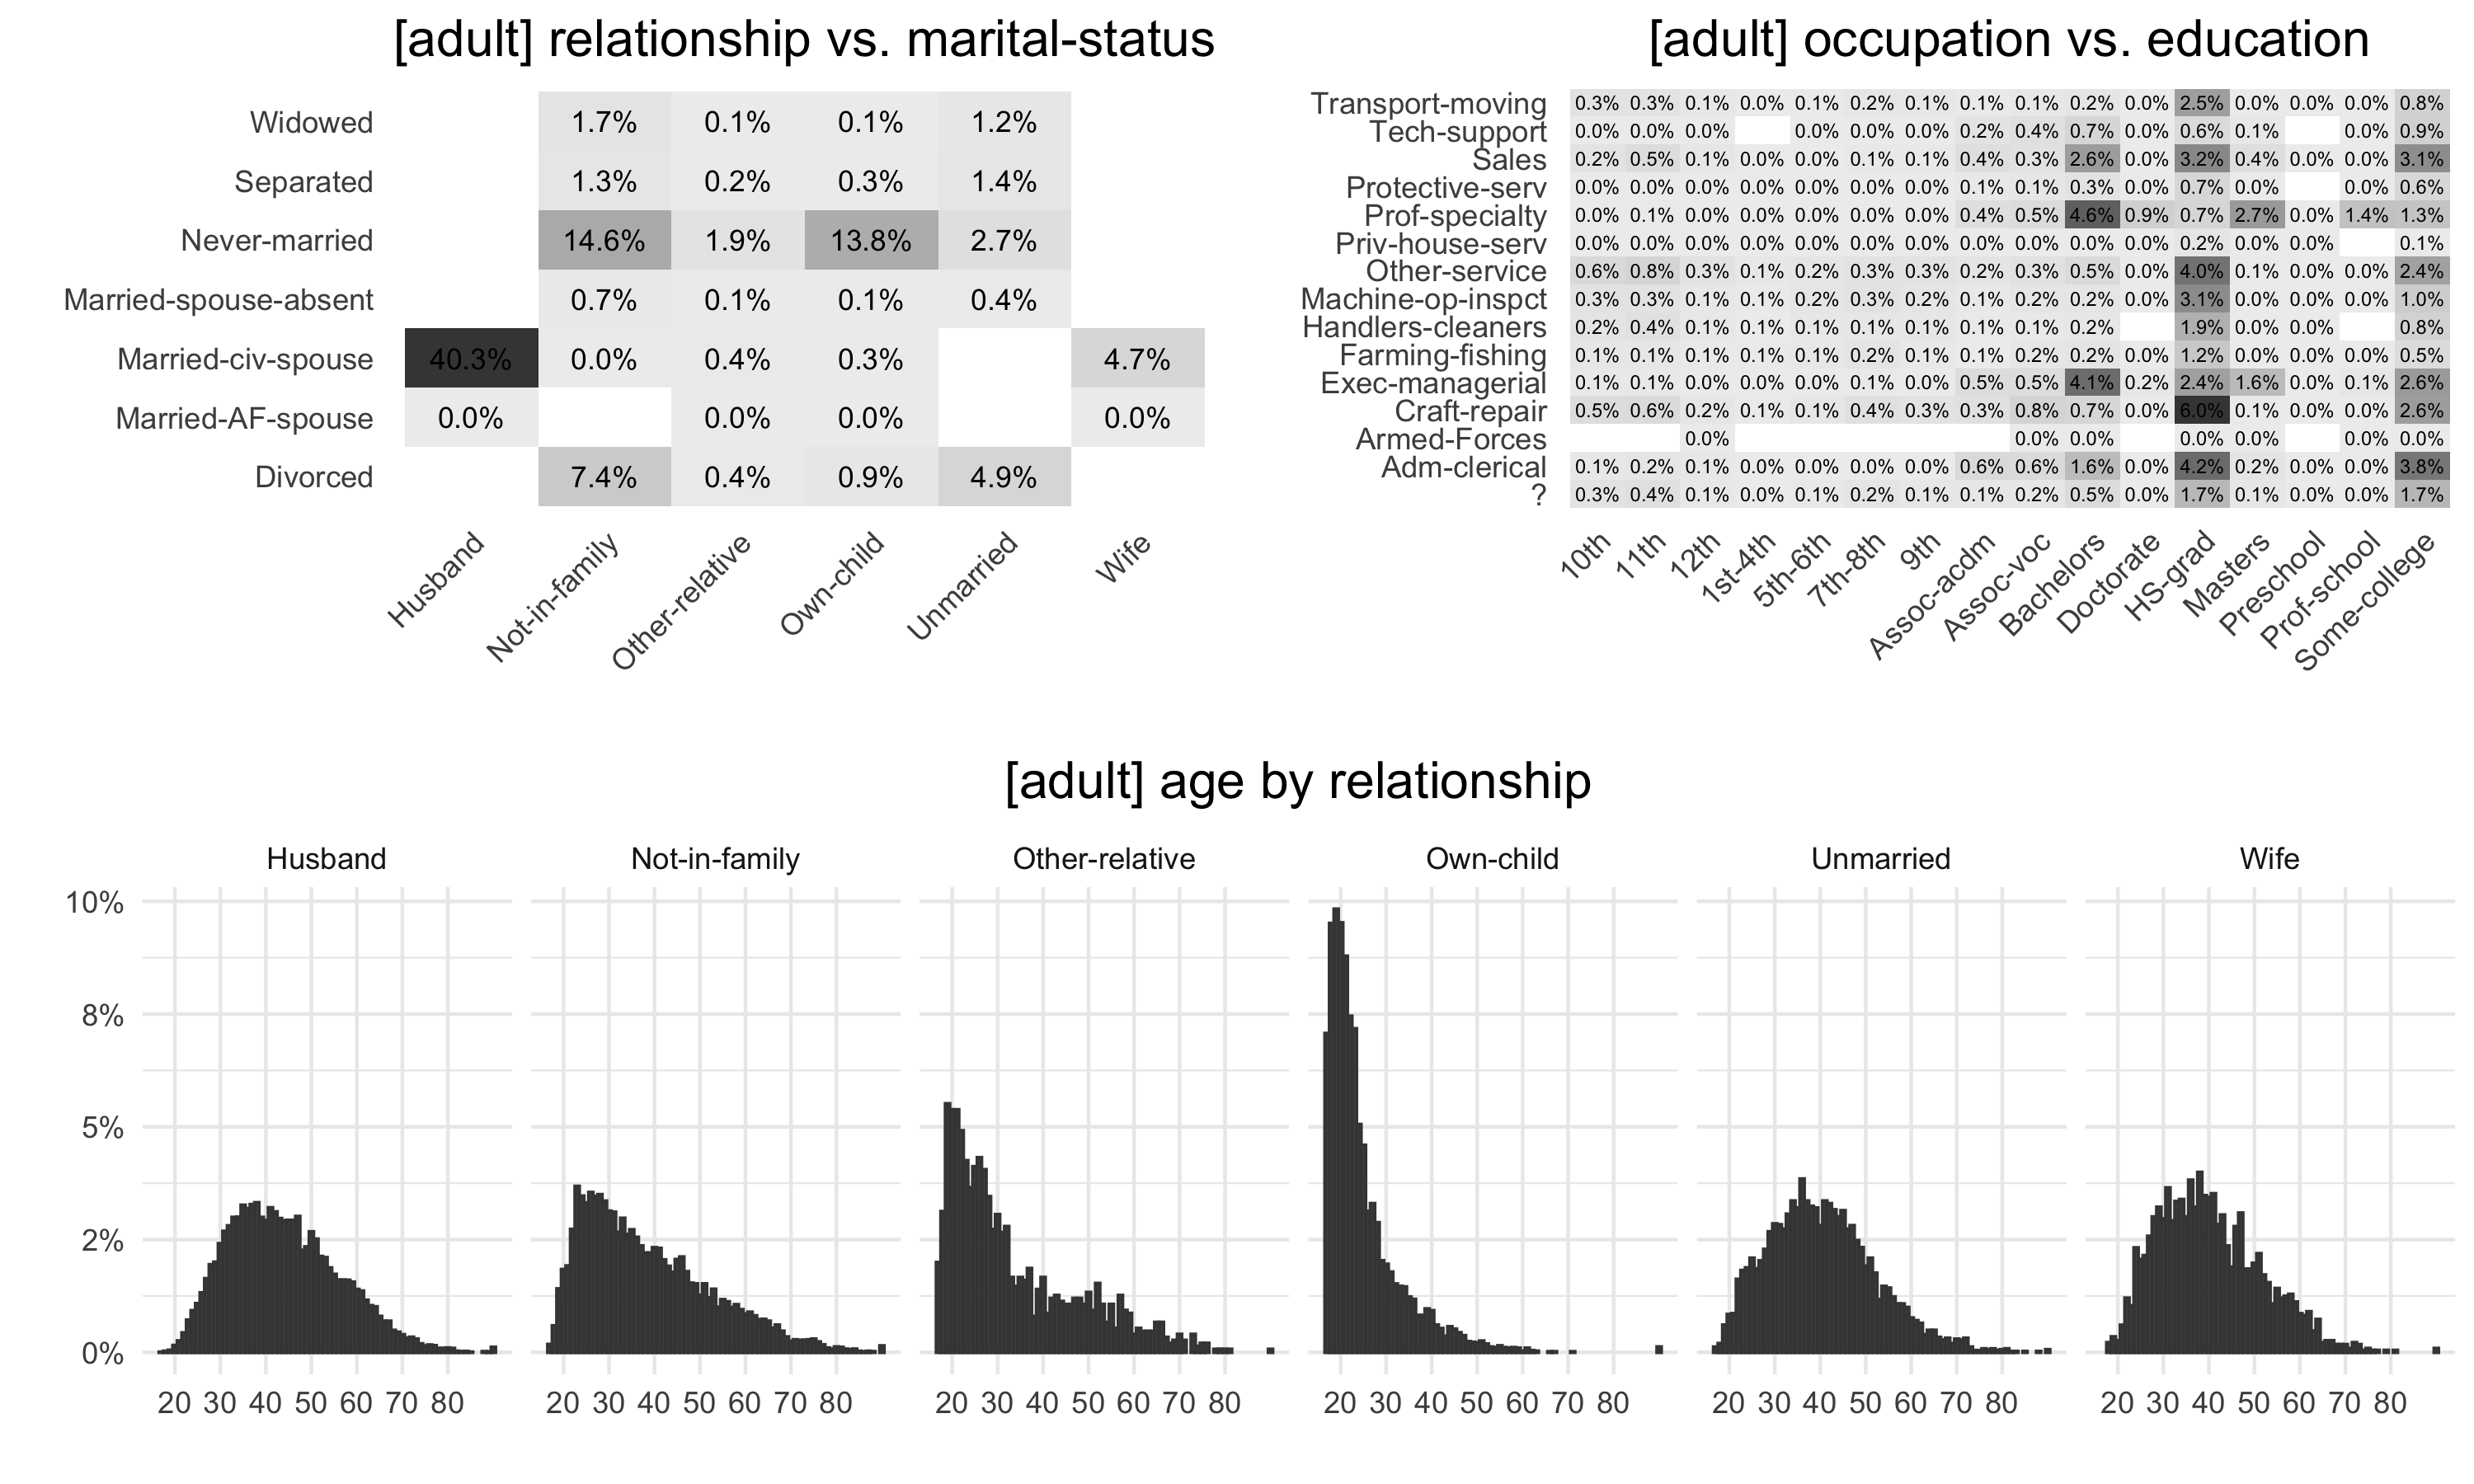

The dashboard page shown, as its layout file describes it:
{"tool":"tableau","page":{"name":"df_adult","canvas":[700,500],"ordinal":0},"visuals":[{"type":"worksheet","title":"df1","mark":"Automatic","rows":["priv_share"],"cols":["fid3_ratio"],"box":[8,8,524,484]},{"type":"blank","box":[532,8,160,32]},{"type":"legend","title":"df1","param":"[federated.0exfi0i05gmj3d14msn4h1me6b6n].[none:Calculation_5919700265430339584:n","box":[532,40,160,106]}]}

Visuals, with their boxes on the page's 700x500 design canvas (x1, y1, x2, y2). These are canvas units, not pixel positions in the 2474x1484 screenshot, which may show the page scaled, cropped or inside an application window:
"df1" worksheet: left=8, top=8, right=532, bottom=492
blank: left=532, top=8, right=692, bottom=40
"df1" legend: left=532, top=40, right=692, bottom=146
